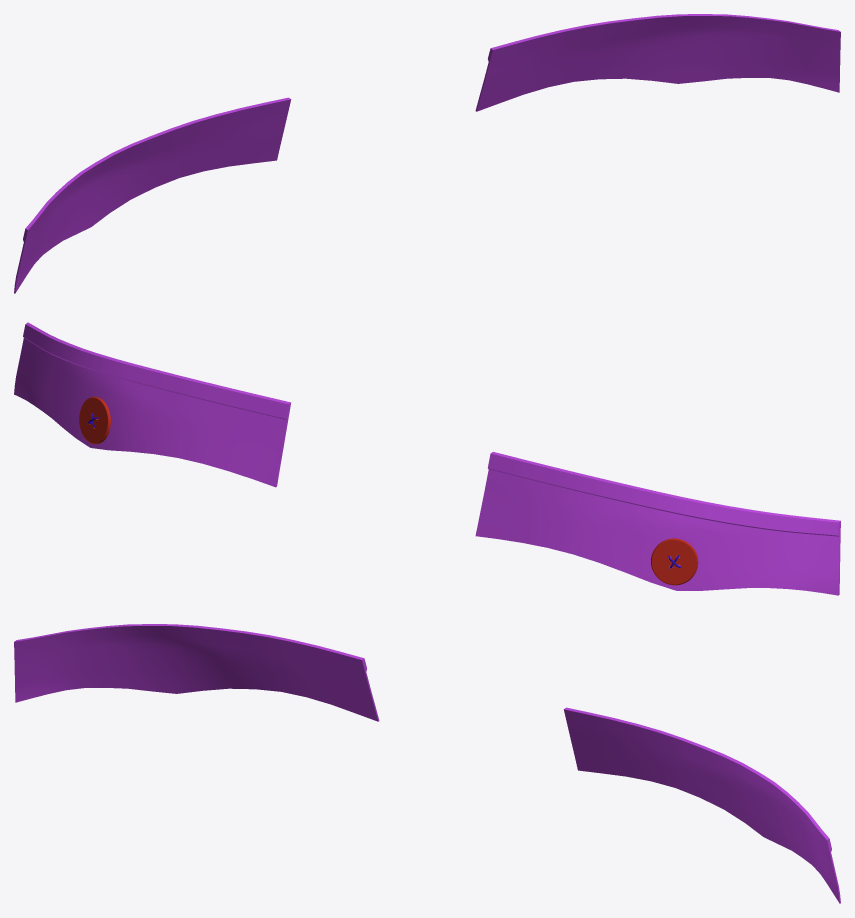
File: SM_CarlosSA_Trousers_BackPockets_2FlapsB.fbx
The picture shows the model from 3 angles, top to bottom: view 1: azimuth 30°, elevation 25°; view 2: azimuth 150°, elevation 25°; view 3: azimuth 330°, elevation 25°; orthographic projection.
Visible parts, largest first — view 1: SM_CarlosSA_Trousers_BackPockets_2FlapsB; view 2: SM_CarlosSA_Trousers_BackPockets_2FlapsB; view 3: SM_CarlosSA_Trousers_BackPockets_2FlapsB.
Part boxes in pixels (x1,y1,x2,y2): SM_CarlosSA_Trousers_BackPockets_2FlapsB: [14, 14, 840, 293]; SM_CarlosSA_Trousers_BackPockets_2FlapsB: [14, 322, 840, 595]; SM_CarlosSA_Trousers_BackPockets_2FlapsB: [14, 624, 840, 903].
Size of the model in its own units: 0.2407 by 0.026 by 0.03.
